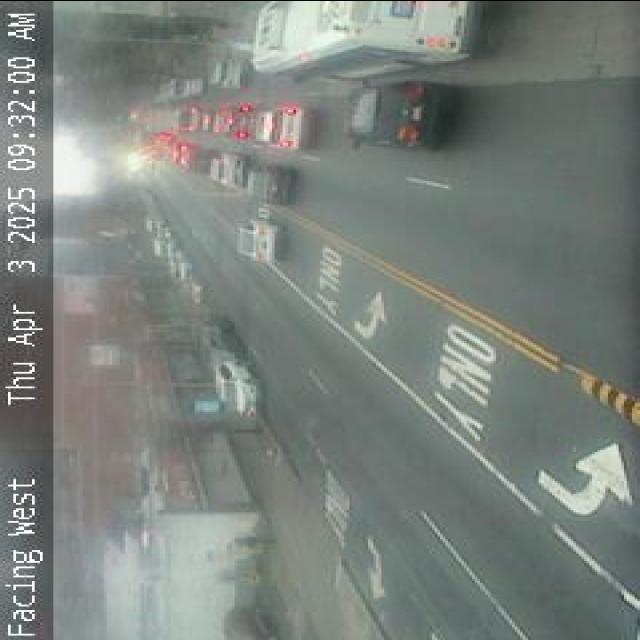open parking: (184, 286, 214, 327), (188, 61, 216, 89)
parkedCars: (178, 317, 262, 409), (140, 230, 206, 304), (197, 44, 250, 90), (158, 70, 202, 102)
